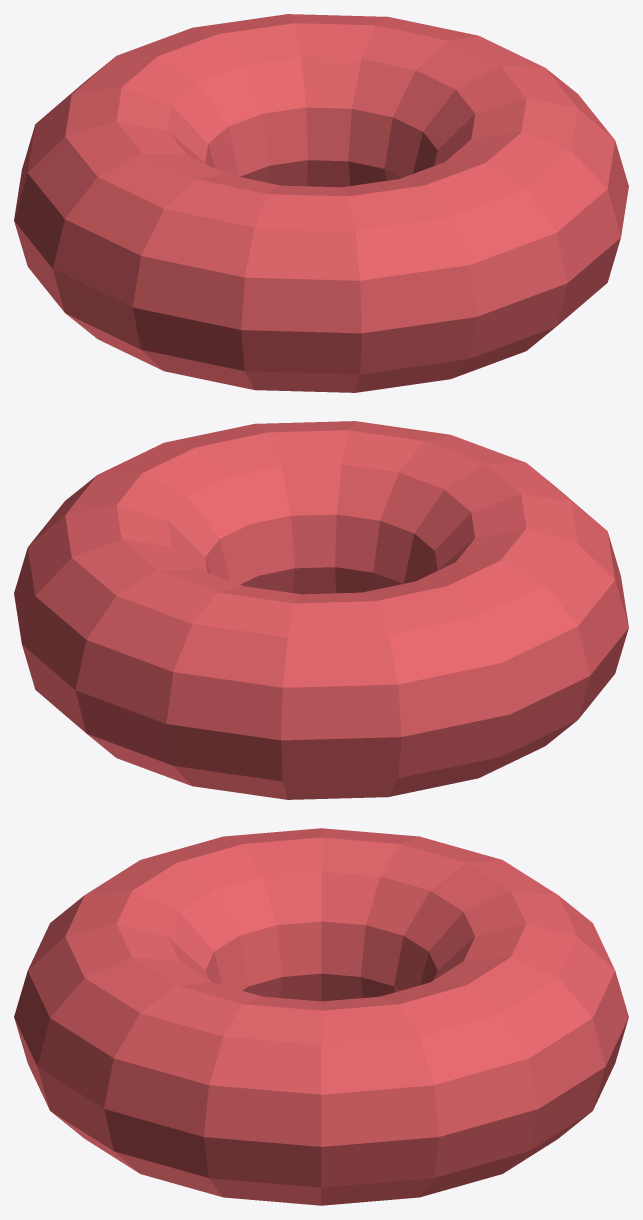
Rendered from Rosca.fbx.
The picture shows the model from 3 angles, top to bottom: view 1: azimuth 30°, elevation 25°; view 2: azimuth 150°, elevation 25°; view 3: azimuth 270°, elevation 25°; orthographic projection.
Visible parts, largest first — view 1: Torus; view 2: Torus; view 3: Torus.
Boxes of the visible parts, left/top/right/bottom form: Torus: left=14, top=14, right=628, bottom=392; Torus: left=14, top=421, right=628, bottom=799; Torus: left=14, top=828, right=628, bottom=1205.
Size of the model in its own units: 150 by 50 by 150.
